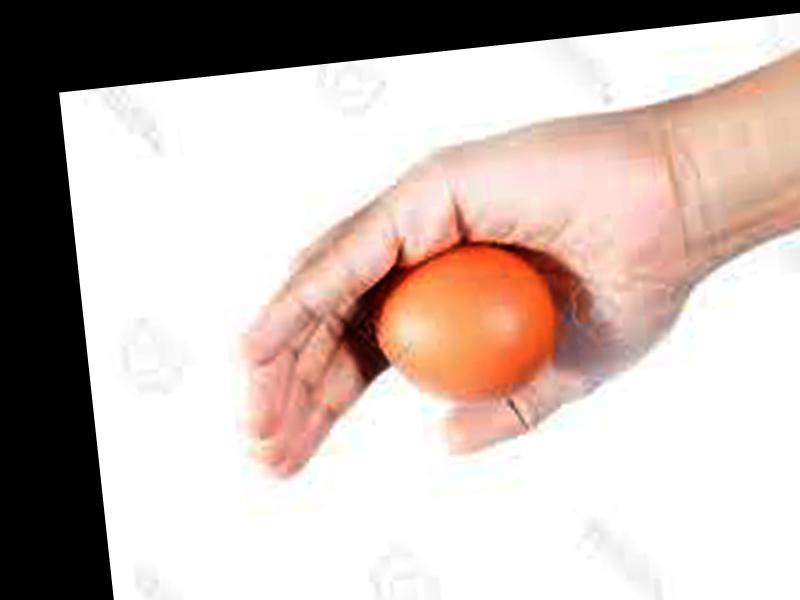Eggs: (370, 240, 562, 409)
